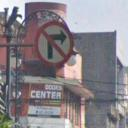NoVirarDireita: (34, 20, 75, 69)
